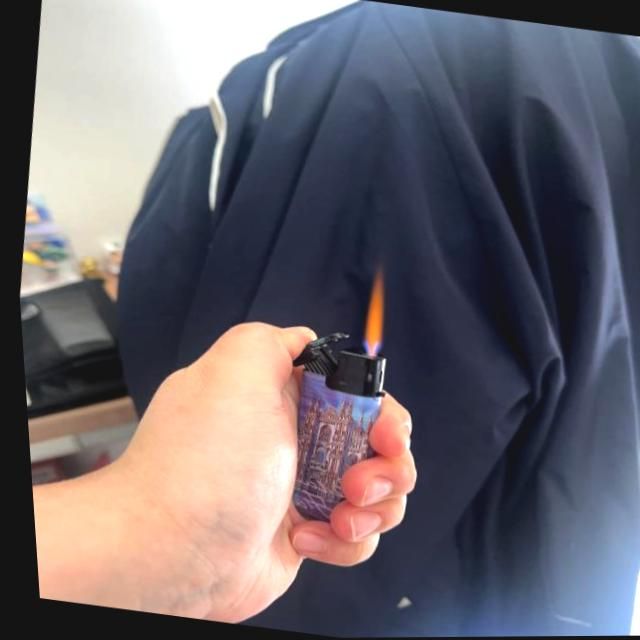Fire: (351, 266, 394, 361)
